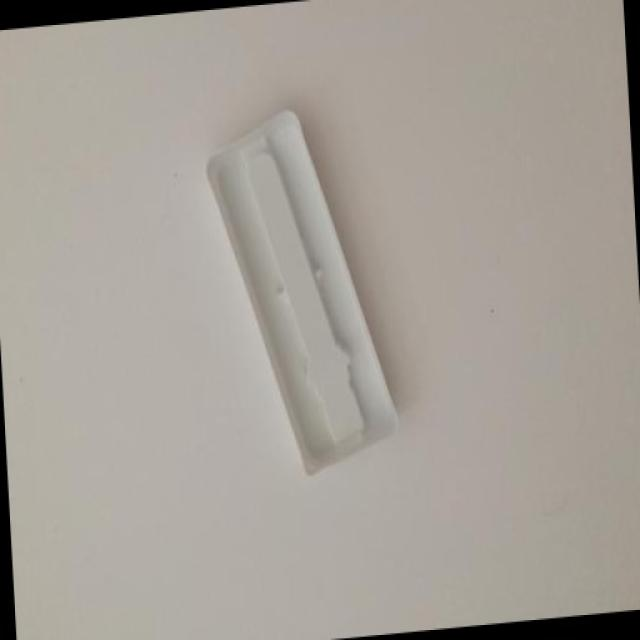plastico: (201, 92, 423, 492)
